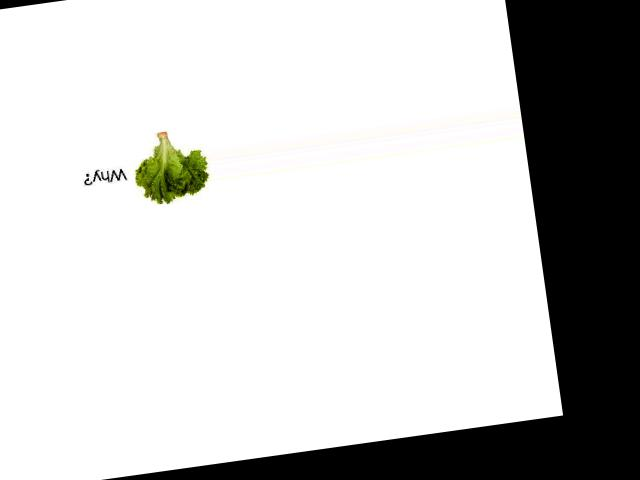lettuce: (122, 125, 214, 208)
